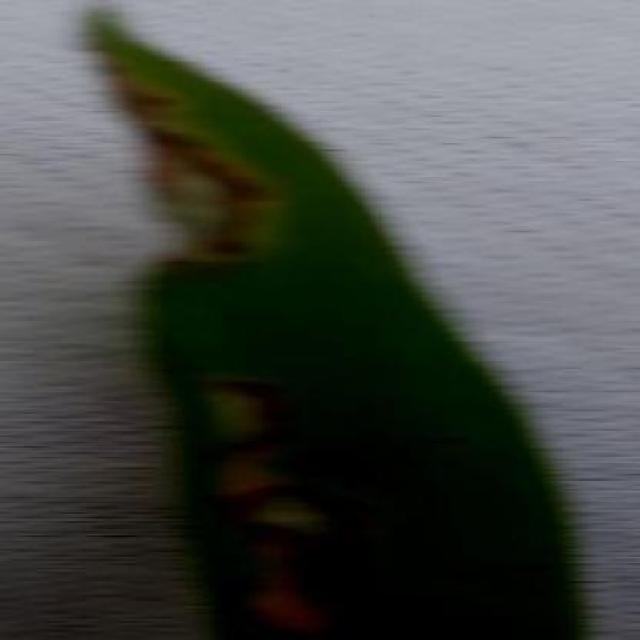Bacterial_Leaf_Blight: (103, 57, 279, 263), (209, 474, 380, 603), (191, 329, 307, 469)
